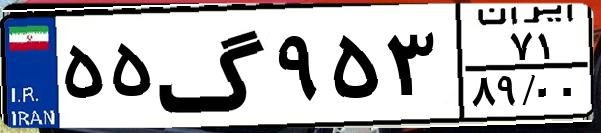0: (560, 70, 590, 125), (535, 70, 560, 125)
1: (537, 27, 568, 80)
3: (385, 28, 445, 110)
5: (330, 28, 385, 110), (57, 26, 110, 100), (110, 28, 156, 98)
7: (508, 27, 537, 80)
8: (470, 70, 495, 125)
9: (270, 28, 330, 110), (495, 70, 520, 125)
گ: (156, 12, 270, 120)
